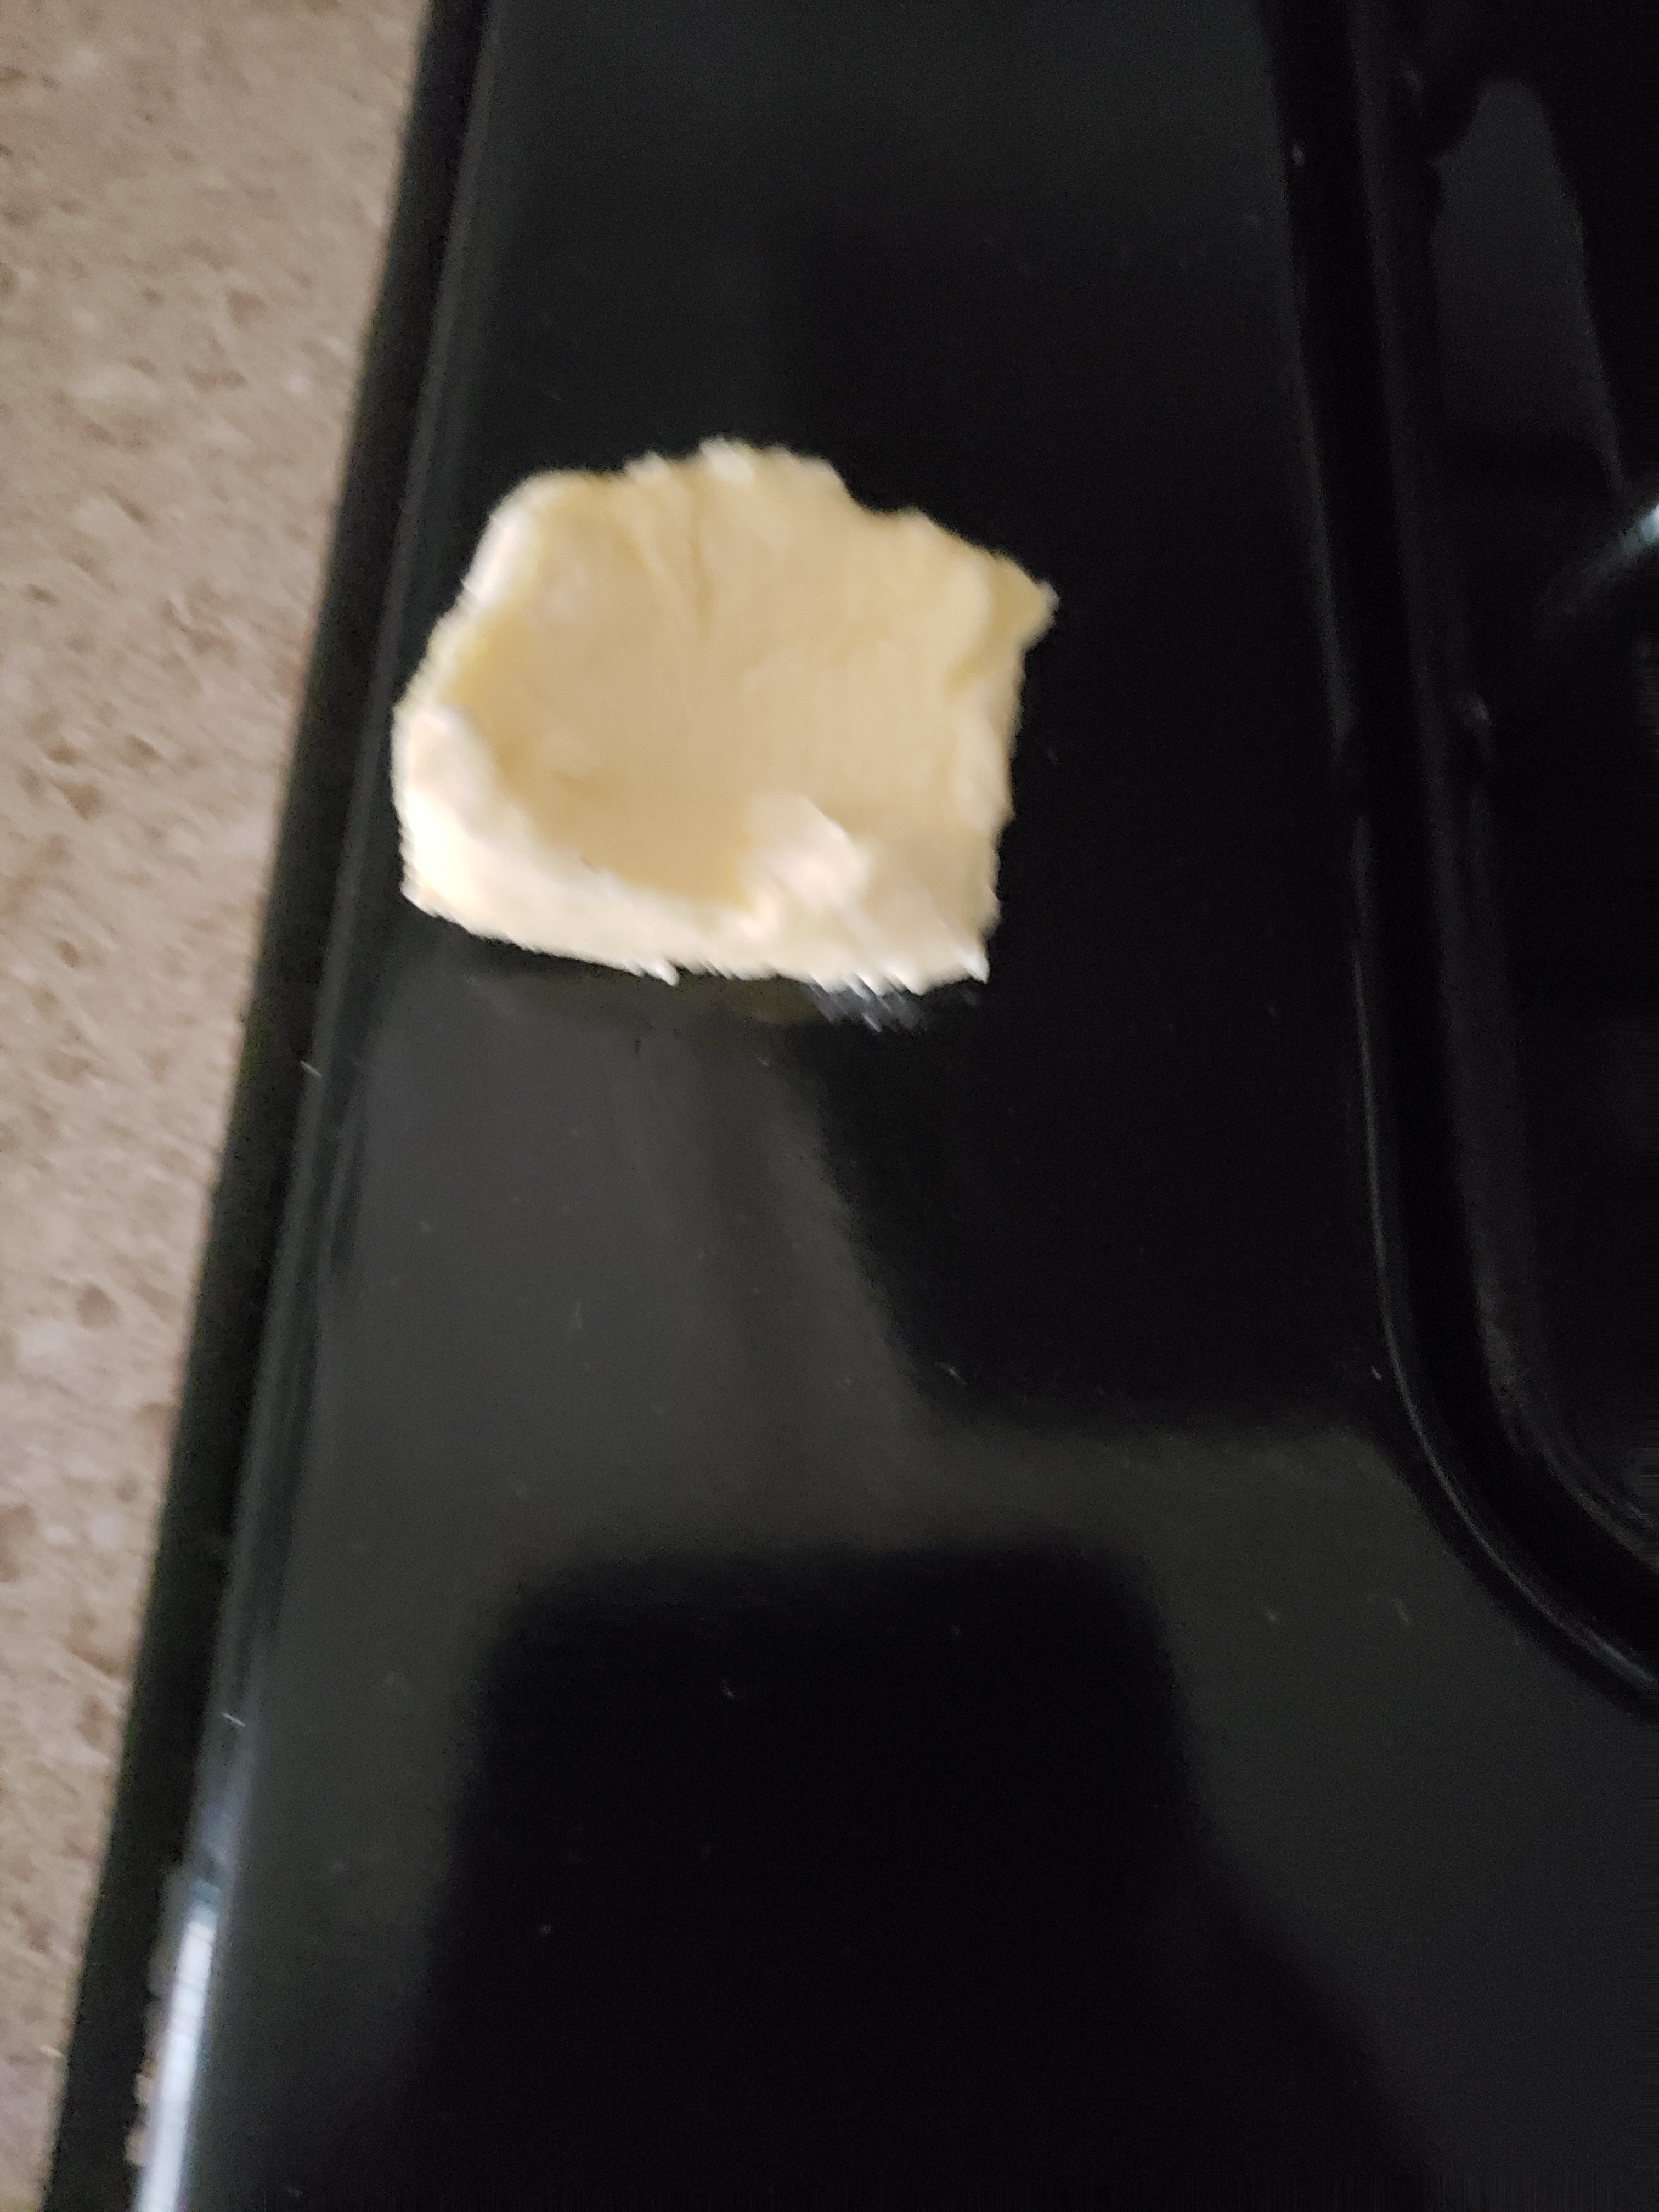Butter: (387, 435, 1056, 1005)
